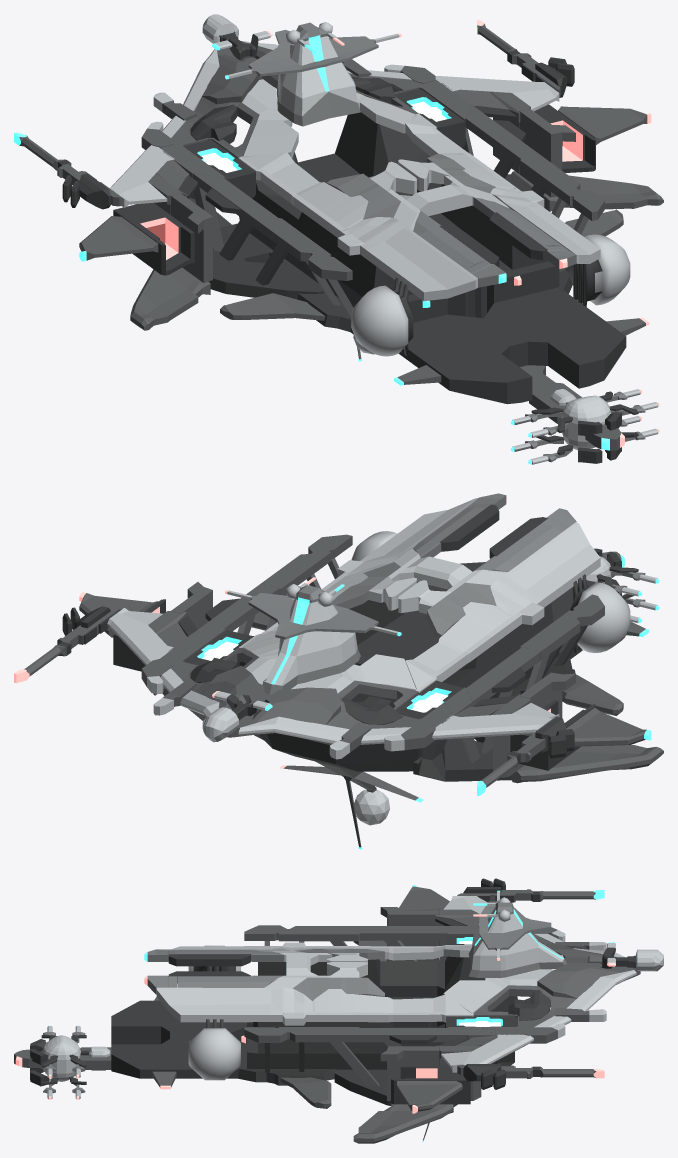
The model's file is Exploration_Capital_LODGroup.fbx.
3 renders of one model, top to bottom at view 1: azimuth 30°, elevation 25°; view 2: azimuth 150°, elevation 25°; view 3: azimuth 270°, elevation 25°, orthographic. The views are drawn at different scales.
Visible parts, largest first — view 1: Exploration Capital_LOD0; view 2: Exploration Capital_LOD0; view 3: Exploration Capital_LOD0.
Boxes of the visible parts, x1,y1,x2,y2 form: Exploration Capital_LOD0: (14, 14, 663, 464); Exploration Capital_LOD0: (14, 493, 663, 849); Exploration Capital_LOD0: (14, 878, 663, 1143).
Size of what is drawn, in the model's own units: 350 by 176 by 434.
